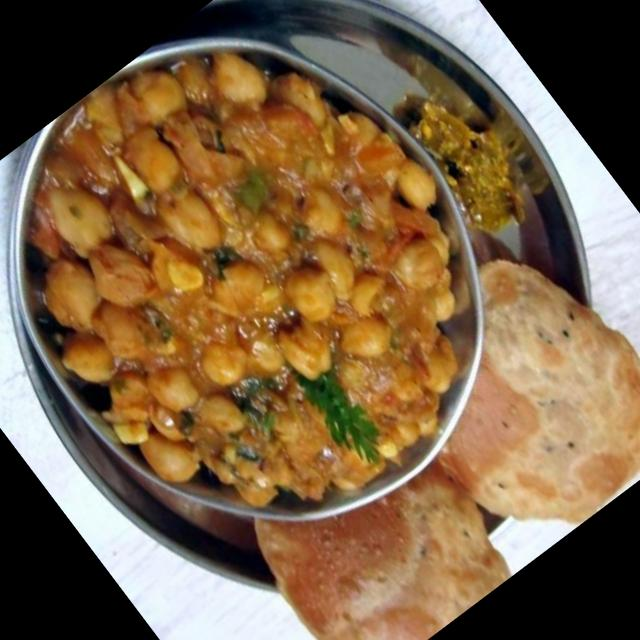Chole: (0, 0, 559, 589)
